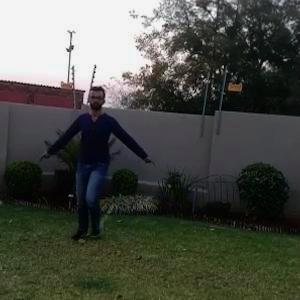land: (52, 94, 149, 222)
